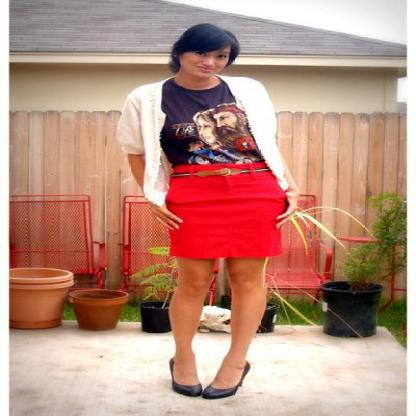jacket: (105, 75, 290, 206)
shirt: (159, 78, 272, 172)
shoe: (172, 376, 236, 398)
skirt: (166, 176, 290, 262)
